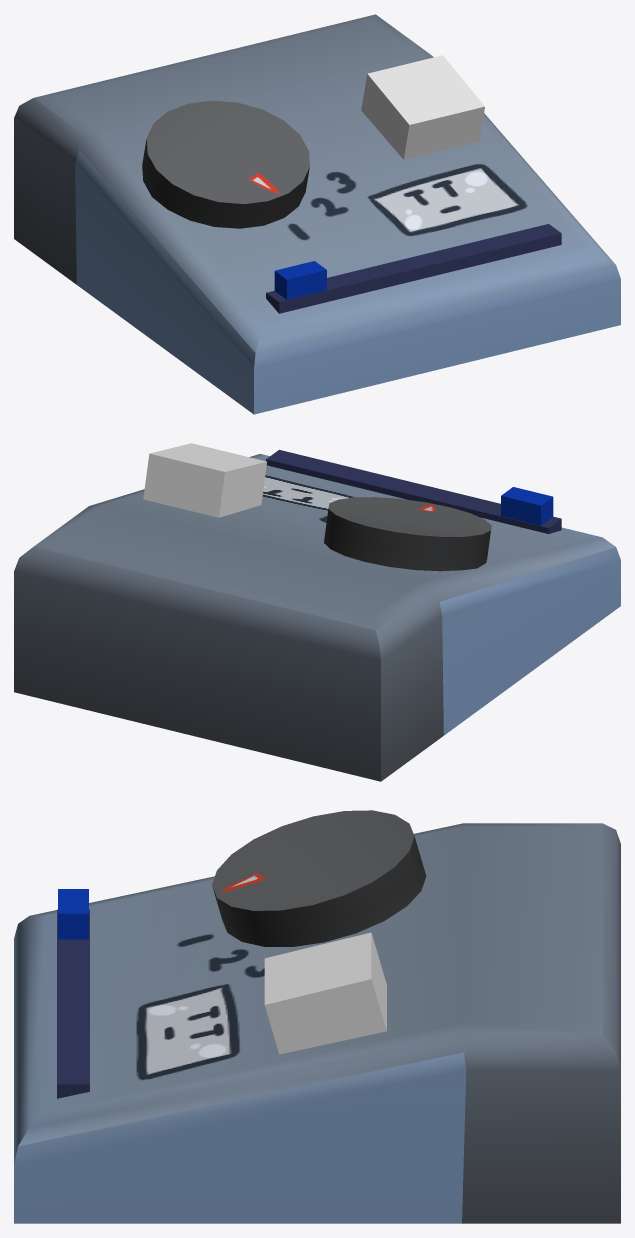
The model's file is PlaceholderBox.fbx.
The picture shows the model from 3 angles, top to bottom: view 1: azimuth 30°, elevation 25°; view 2: azimuth 150°, elevation 25°; view 3: azimuth 270°, elevation 25°; orthographic projection. The views are drawn at different scales.
Parts seen in each view (by area): view 1: pCube1, pCylinder18, pCube2, pCube3, pCube4; view 2: pCube1, pCylinder18, pCube2, pCube3, pCube4; view 3: pCube1, pCylinder18, pCube2, pCube3, pCube4.
Part boxes in pixels (x1,y1,x2,y2): pCube1: (14, 14, 620, 414); pCylinder18: (142, 100, 309, 228); pCube2: (361, 55, 484, 159); pCube3: (266, 224, 561, 313); pCube4: (274, 261, 326, 299); pCube1: (14, 454, 620, 781); pCylinder18: (324, 497, 491, 571); pCube2: (143, 443, 266, 517); pCube3: (266, 449, 561, 533); pCube4: (501, 487, 553, 525); pCube1: (14, 823, 620, 1223); pCylinder18: (212, 810, 426, 946); pCube2: (264, 932, 386, 1054); pCube3: (57, 909, 89, 1098); pCube4: (58, 889, 88, 939).
Size of the model in its own units: 1 by 0.4566 by 1.13.
Materials: 5 (2 with a texture image).
